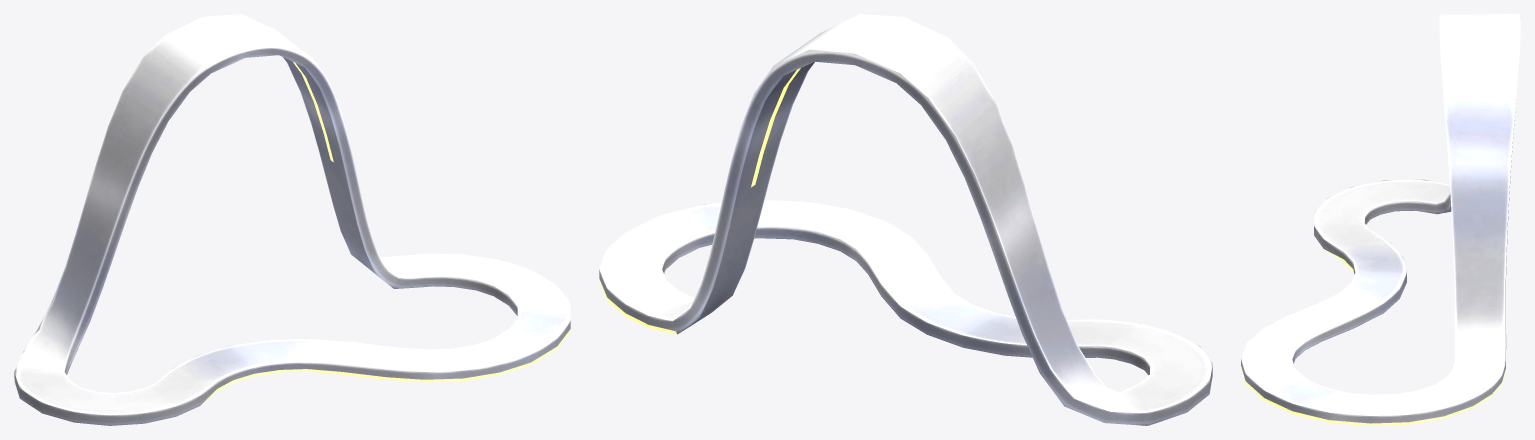
The model's file is obj_decoration01.gltf.
3 renders of one model, left to right at view 1: azimuth 30°, elevation 25°; view 2: azimuth 150°, elevation 25°; view 3: azimuth 270°, elevation 25°, orthographic. The views are drawn at different scales.
Visible parts, largest first — view 1: obj_decoration01; view 2: obj_decoration01; view 3: obj_decoration01.
Boxes of the visible parts, bbox=[...] form: obj_decoration01: bbox=[14, 14, 570, 425]; obj_decoration01: bbox=[599, 14, 1212, 425]; obj_decoration01: bbox=[1241, 14, 1520, 425].
Size of what is drawn, in the model's own units: 5.68 by 3.08 by 2.84.
2 materials, 1 textured.
